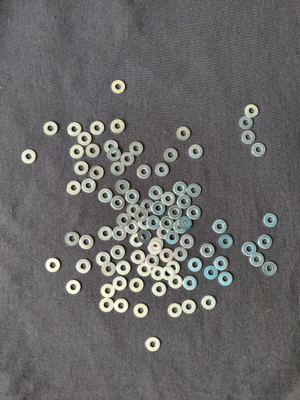circle: (200, 294, 219, 313), (20, 149, 38, 166), (64, 230, 81, 248), (167, 303, 184, 321), (66, 121, 83, 138), (262, 260, 279, 277), (110, 245, 127, 262), (219, 233, 235, 251), (212, 219, 230, 235), (44, 258, 62, 274), (98, 225, 114, 243), (245, 102, 261, 119), (110, 117, 126, 134), (67, 180, 83, 197), (258, 233, 274, 250), (242, 242, 258, 259), (98, 297, 115, 313), (76, 258, 92, 275), (101, 262, 118, 278), (186, 204, 203, 220), (152, 282, 169, 298), (111, 79, 127, 95), (163, 147, 179, 163), (106, 147, 122, 163), (133, 303, 149, 319), (67, 279, 83, 295), (182, 300, 198, 316), (137, 163, 152, 180), (97, 188, 114, 203), (114, 298, 131, 313), (182, 276, 199, 291), (253, 142, 268, 158), (189, 144, 205, 159), (90, 120, 105, 136), (155, 162, 170, 178), (129, 141, 145, 156), (110, 162, 126, 177), (104, 139, 120, 154), (70, 144, 85, 160), (82, 178, 97, 194), (264, 213, 279, 229), (125, 189, 141, 204), (129, 278, 145, 293), (116, 260, 131, 276), (161, 191, 176, 207), (188, 258, 204, 273), (158, 248, 174, 263), (176, 127, 193, 141), (89, 166, 106, 180), (74, 161, 89, 176), (80, 235, 95, 250), (96, 252, 111, 267), (137, 229, 152, 244), (168, 205, 183, 220), (214, 256, 229, 271), (131, 250, 146, 265), (241, 131, 257, 145), (44, 120, 58, 136), (121, 152, 135, 168), (110, 196, 126, 210), (113, 226, 127, 242), (177, 195, 193, 209), (179, 216, 193, 232), (157, 225, 173, 239), (219, 272, 233, 288), (145, 254, 161, 268), (138, 262, 152, 278), (116, 180, 131, 194), (146, 337, 161, 351), (100, 284, 115, 298), (124, 219, 138, 234), (149, 186, 163, 201), (130, 233, 144, 248), (187, 183, 201, 198), (174, 220, 188, 235), (166, 231, 181, 245), (181, 235, 196, 249), (201, 243, 215, 258), (174, 247, 188, 262), (148, 241, 163, 255), (169, 275, 183, 290), (151, 266, 165, 281), (205, 265, 218, 281), (240, 116, 254, 130), (78, 132, 92, 146), (86, 144, 100, 158), (251, 253, 265, 267), (113, 277, 127, 291), (127, 204, 141, 218), (147, 216, 161, 230), (152, 202, 166, 216), (150, 237, 164, 251), (167, 261, 181, 275), (161, 267, 175, 281), (117, 214, 132, 227), (161, 217, 176, 230), (135, 208, 148, 222), (141, 200, 154, 214), (138, 215, 151, 229), (175, 181, 187, 196)
